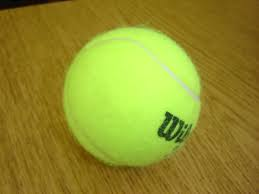tennis ball: (57, 26, 218, 169)
